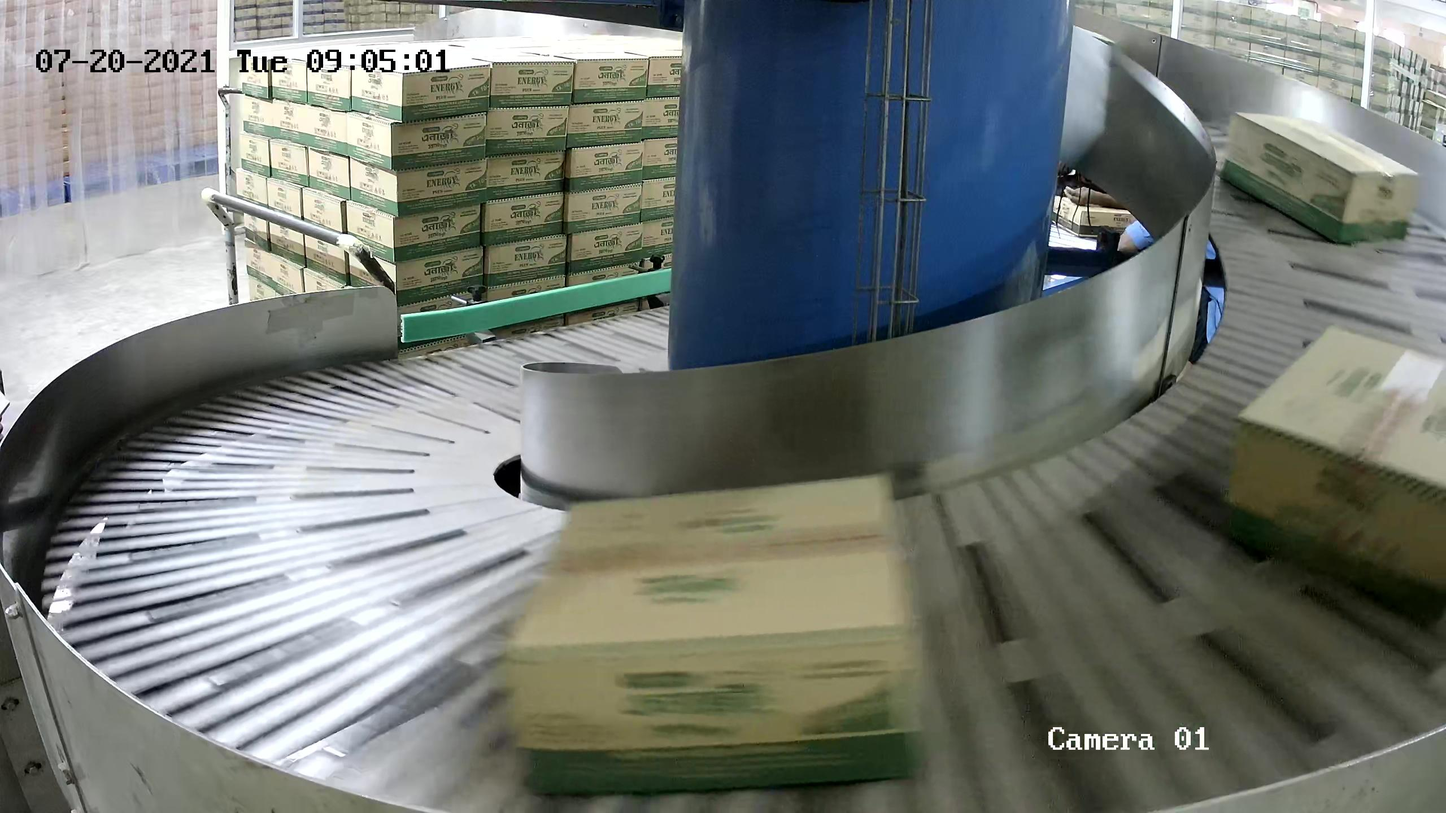Box: (501, 472, 929, 797), (1220, 323, 1446, 627), (1220, 112, 1418, 245)
